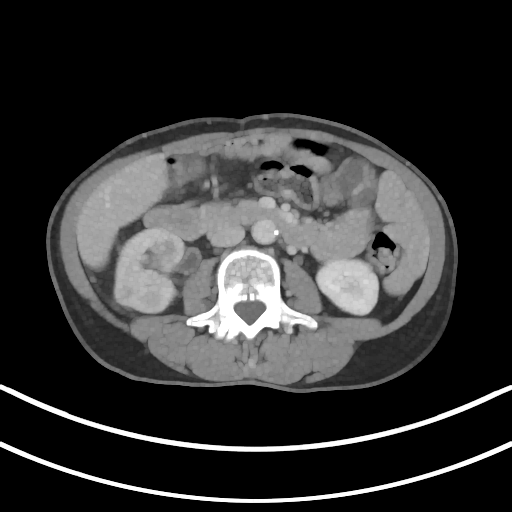Lesion: (112, 282, 136, 308)
